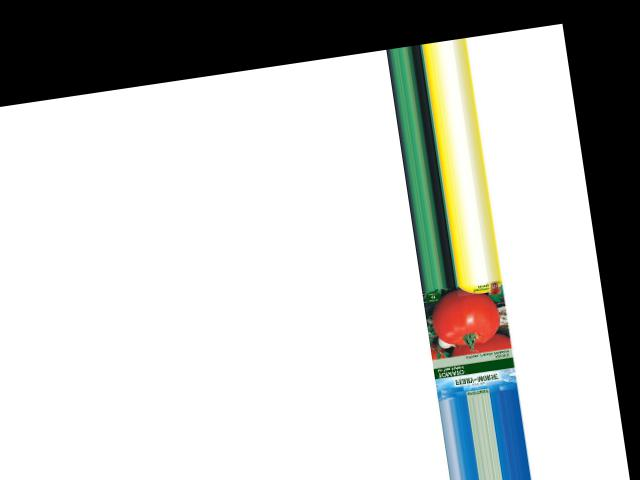tomato: (428, 283, 502, 349)
